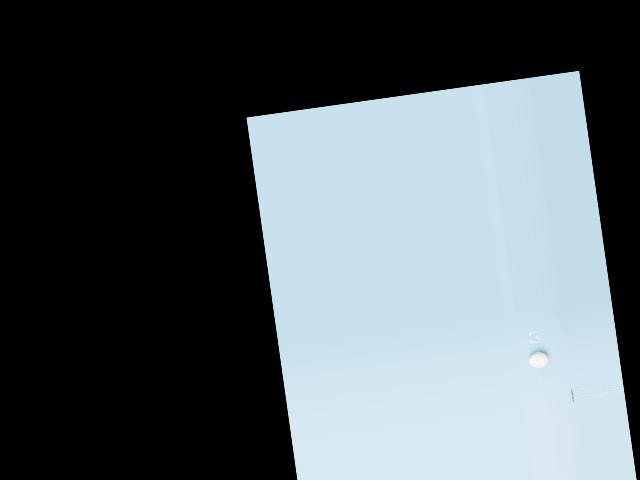egg: (528, 351, 549, 369)
